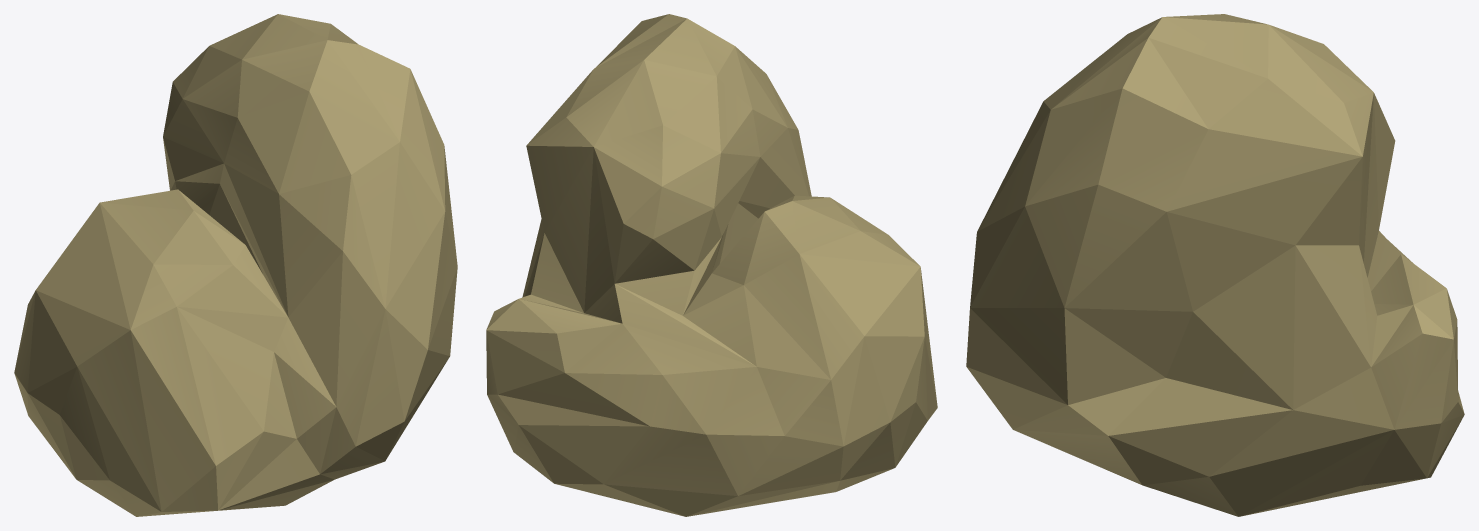
The model's file is SM_rock_35.fbx.
3 views of the same model, side by side, from view 1: azimuth 30°, elevation 25°; view 2: azimuth 150°, elevation 25°; view 3: azimuth 270°, elevation 25° (orthographic). The views are drawn at different scales.
Visible parts, largest first — view 1: rock_35; view 2: rock_35; view 3: rock_35.
Part boxes in pixels (x1,y1,x2,y2): rock_35: [14, 14, 457, 516]; rock_35: [486, 14, 937, 516]; rock_35: [966, 14, 1464, 516].
Bounding box in the file's own units: 143 × 168 × 155.
